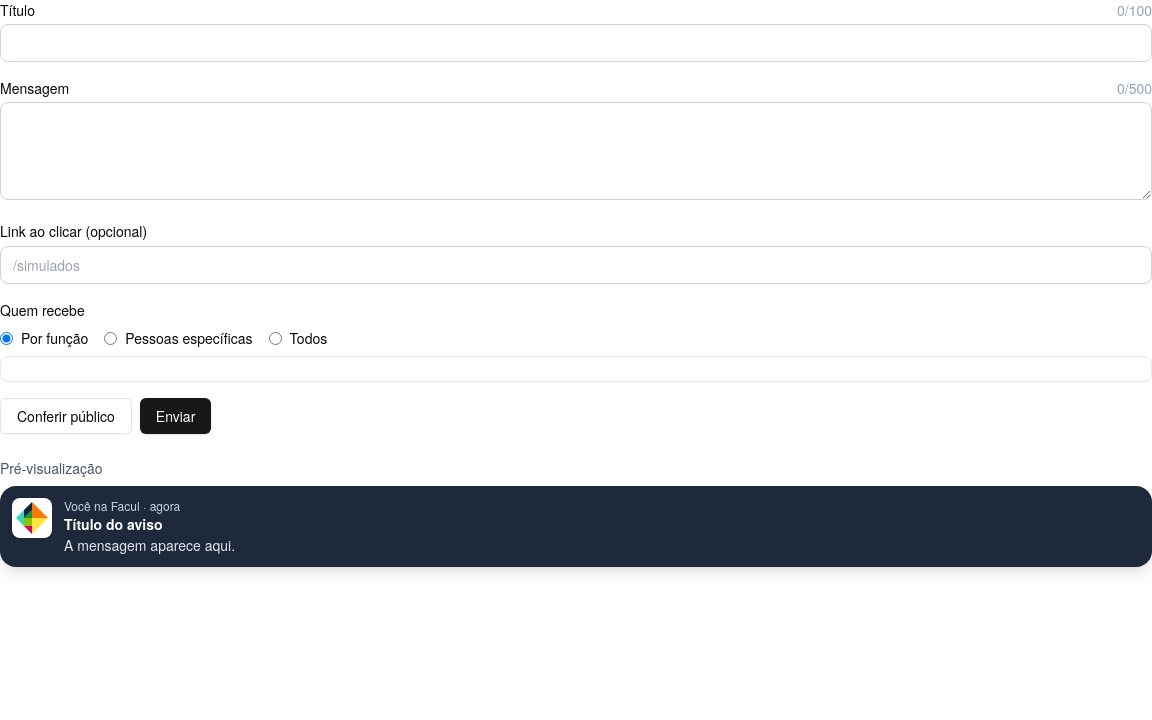
Test case: NovaNotificacao › ⚠️ para TODOS, só confirma depois de digitar ENVIAR
In the field labelled "Título 0/100": (576, 43) [0,24,1151,62], type "Aviso geral"
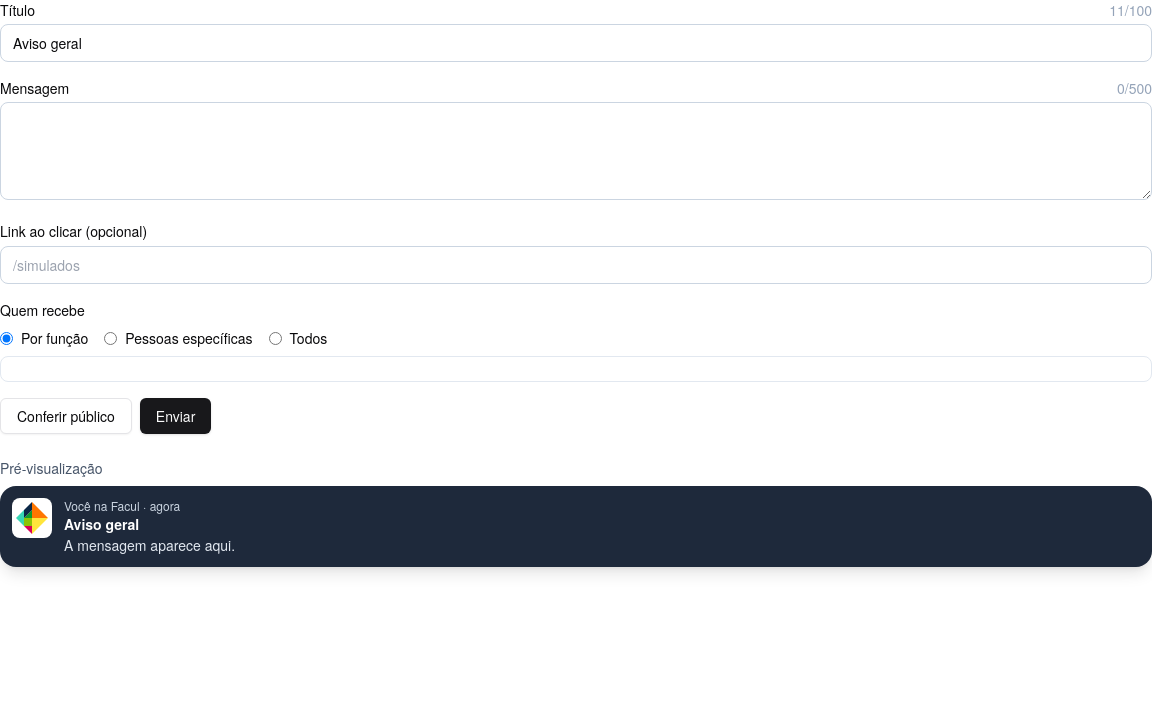
In the text box labelled "Mensagem 0/500": (576, 151) [0,102,1151,200], type "Para todo mundo."
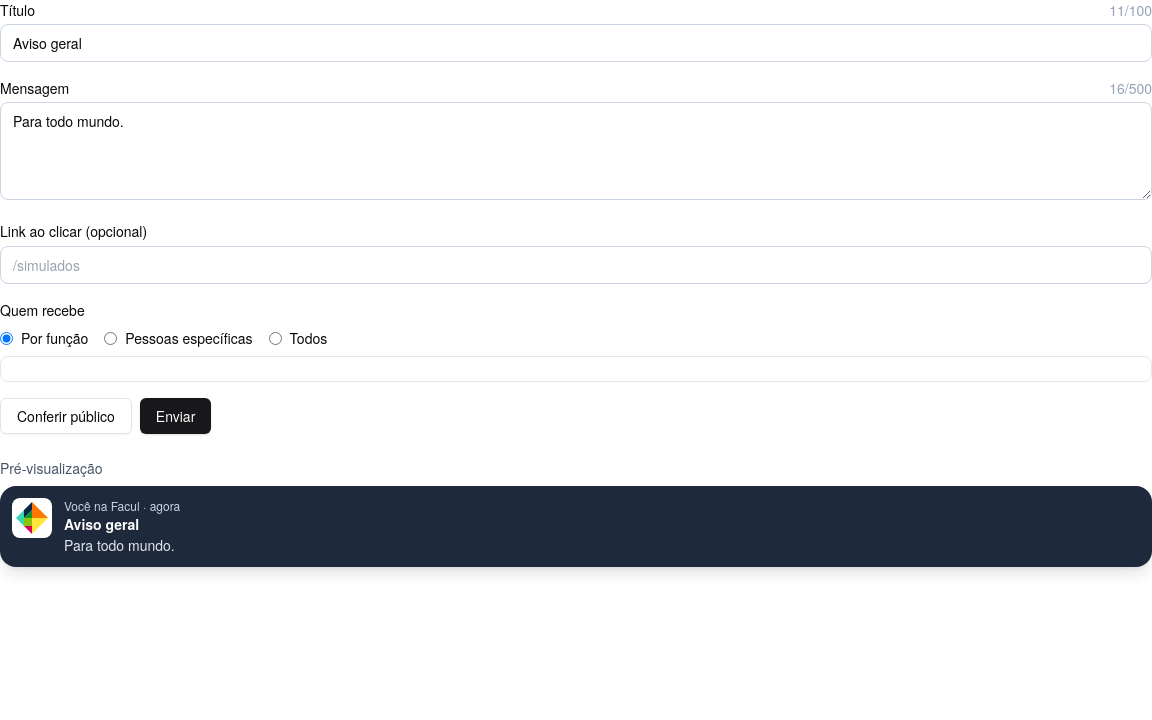
Click the radio button labelled "Todos": (275, 338) [269,332,282,344]
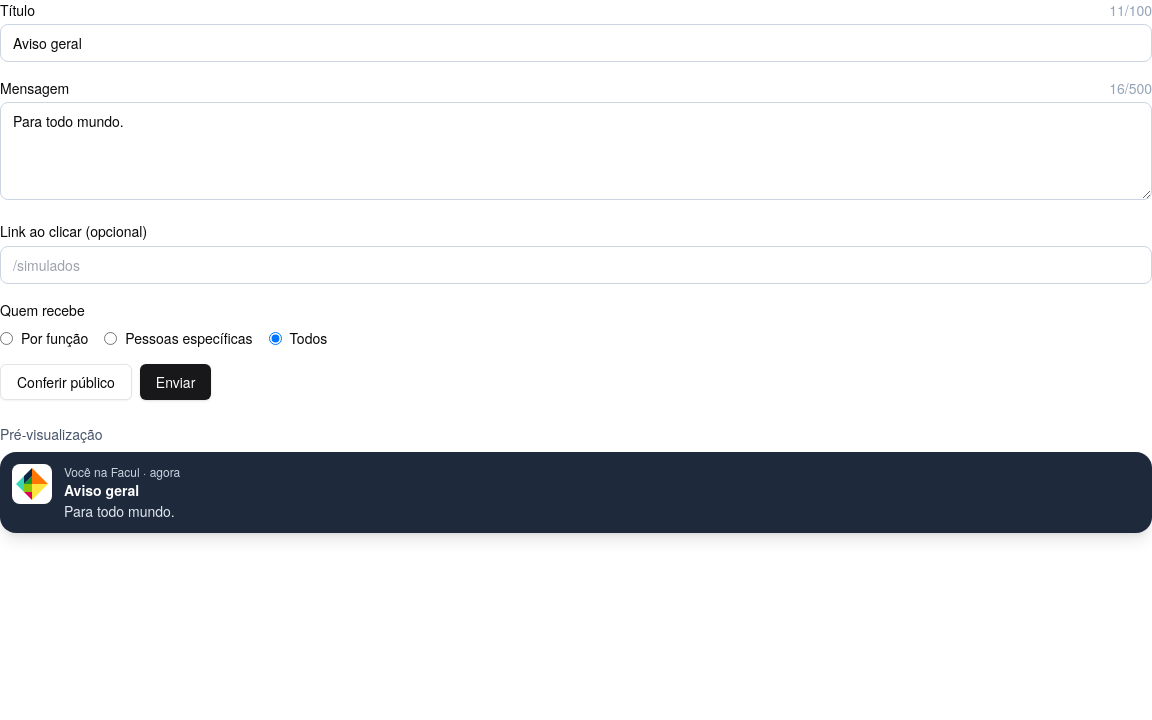
Click the button "Enviar": (176, 382) [140,364,211,400]
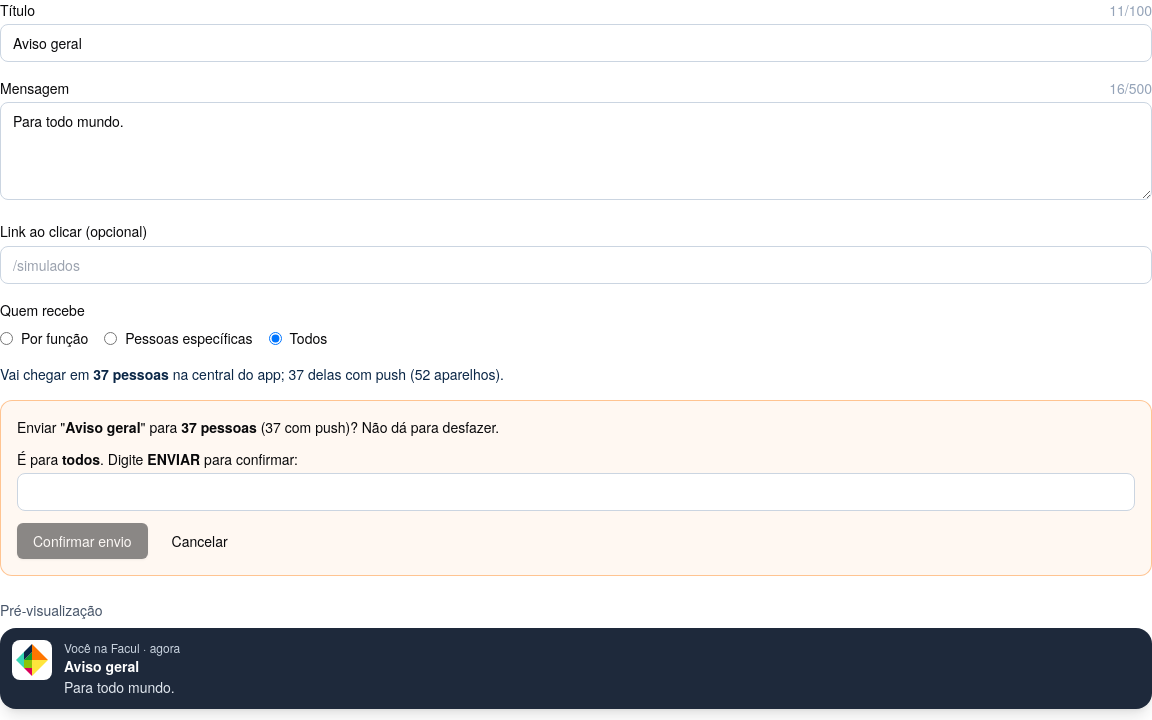
Result: the element named "Confirmar envio" is shown at [0,400,1151,576]
Result: the button "Confirmar envio" is disabled at [17,523,148,559]
In the field named "Confirmação": (576, 492) [17,473,1135,511], type "enviar"
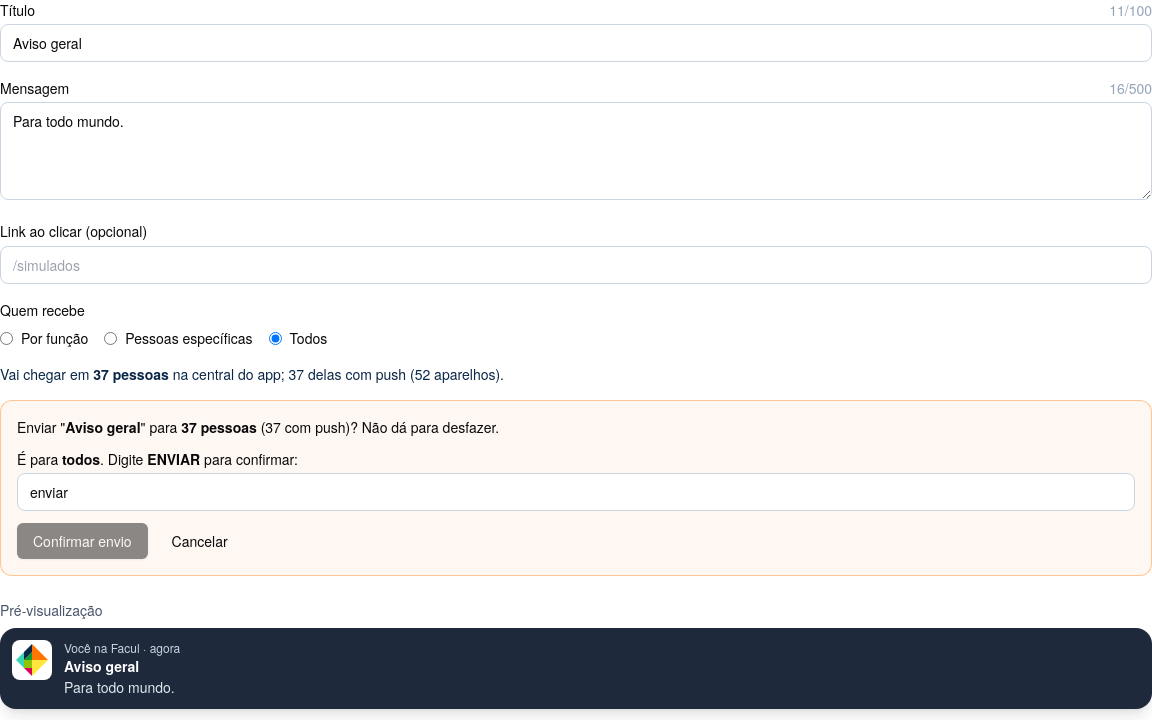
Result: the button "Confirmar envio" is disabled at [17,523,148,559]
Replace the text in the field named "Confirmação" with "ENVIAR": (576, 492) [17,473,1135,511]
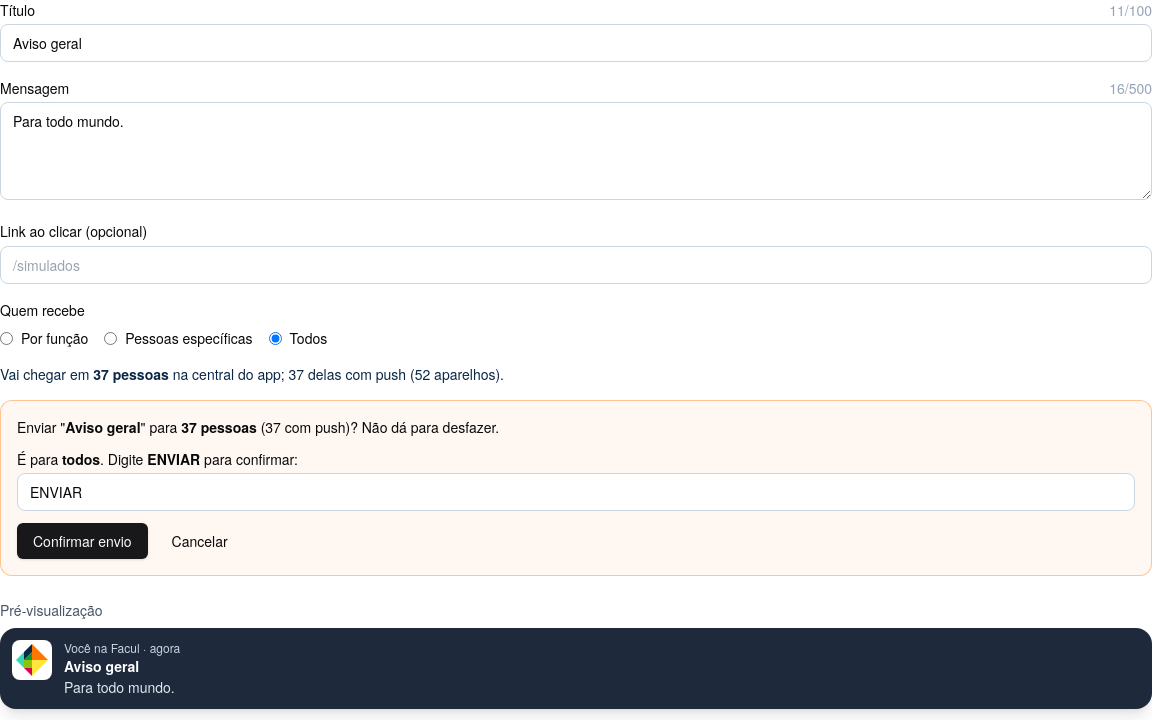
Result: the button "Confirmar envio" is enabled at [17,523,148,559]
